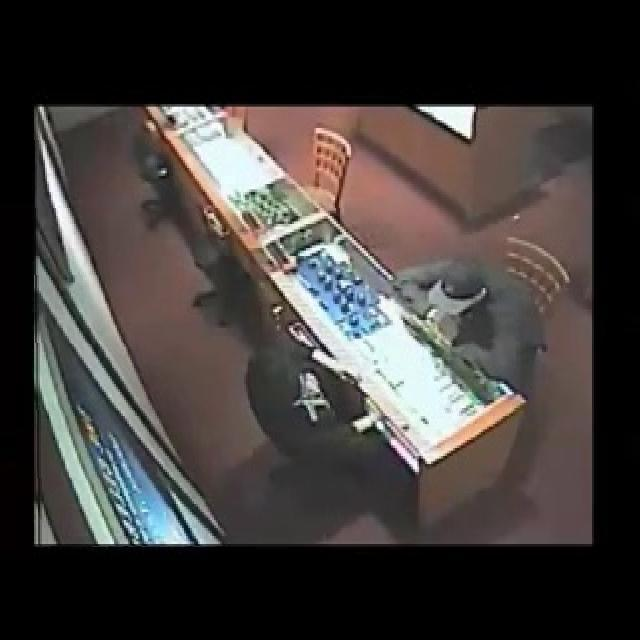Normal: (32, 107, 592, 547)
